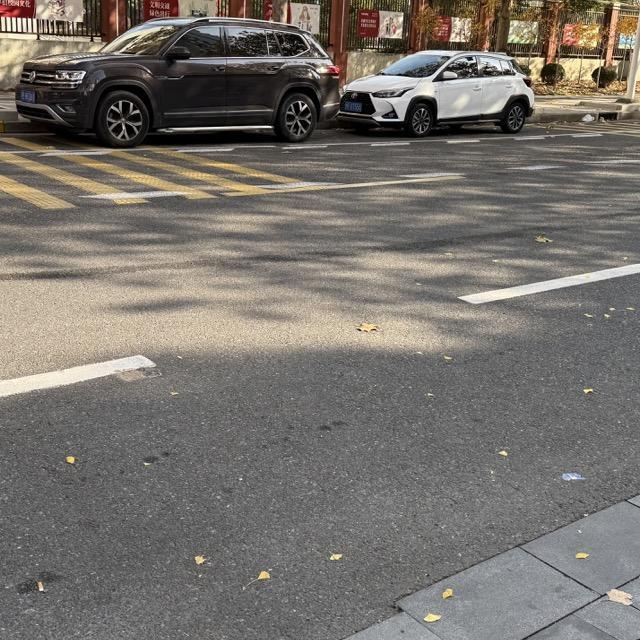curb: (528, 112, 639, 123)
